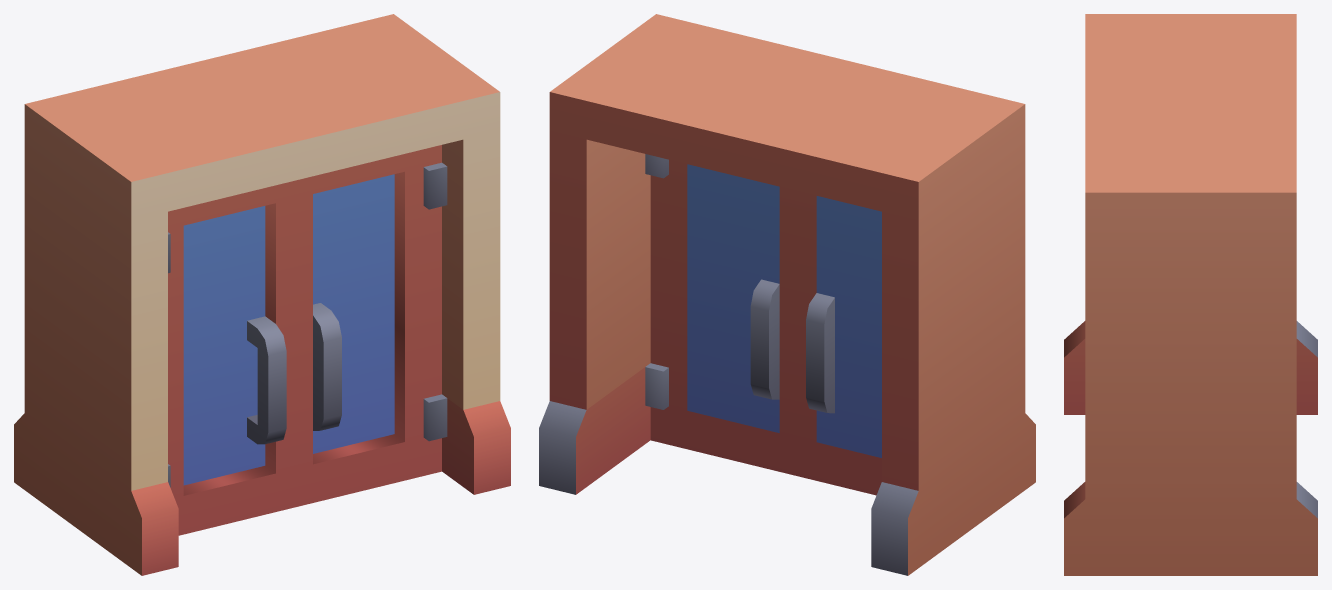
Rendered from wall-door-rotate.obj.
The picture shows the model from 3 angles, left to right: view 1: azimuth 30°, elevation 25°; view 2: azimuth 150°, elevation 25°; view 3: azimuth 270°, elevation 25°; orthographic projection.
Visible parts, largest first — view 1: Group, door-right, door-left, wall-door-rotate; view 2: Group, door-right, door-left, wall-door-rotate; view 3: Group, wall-door-rotate.
Boxes of the visible parts, x1,y1,x2,y2 form: Group: (14, 14, 500, 575); door-right: (294, 145, 447, 507); door-left: (168, 181, 294, 535); wall-door-rotate: (131, 398, 510, 575); Group: (549, 14, 1035, 575); door-right: (645, 154, 797, 476); door-left: (798, 191, 881, 495); wall-door-rotate: (539, 367, 918, 575); Group: (1064, 14, 1317, 575); wall-door-rotate: (1064, 321, 1317, 518).
Size of the model in its own units: 1 by 1 by 0.6.
